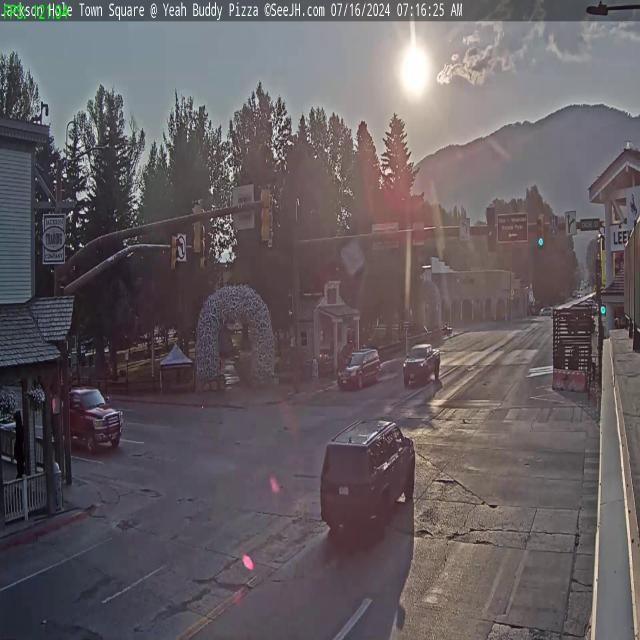motorcycle: (14, 408, 26, 484)
person: (47, 388, 124, 455), (401, 339, 441, 386)
sedan: (318, 414, 418, 544)
suv: (260, 186, 272, 245), (192, 200, 204, 256), (486, 208, 496, 251), (536, 214, 546, 251), (171, 234, 178, 272), (201, 237, 207, 270)
truck: (338, 348, 380, 392)
